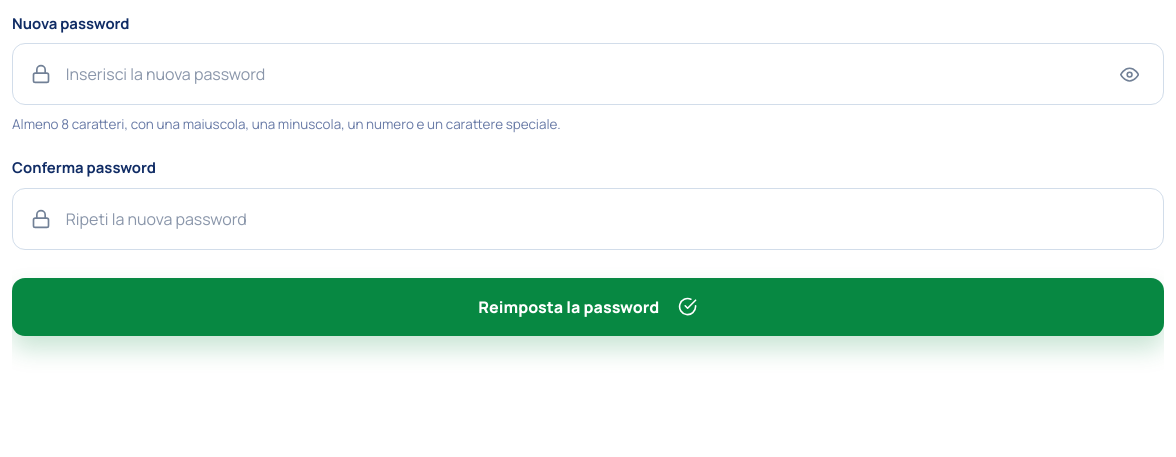
ResetPasswordForm › errori del server › tratta il 500 come guasto tecnico, non come token invalido
The width and height of the screenshot is (1176, 457).
Type "Password1!" into the password field labelled "Nuova password" at (583, 74), box [66,62,1100,86]
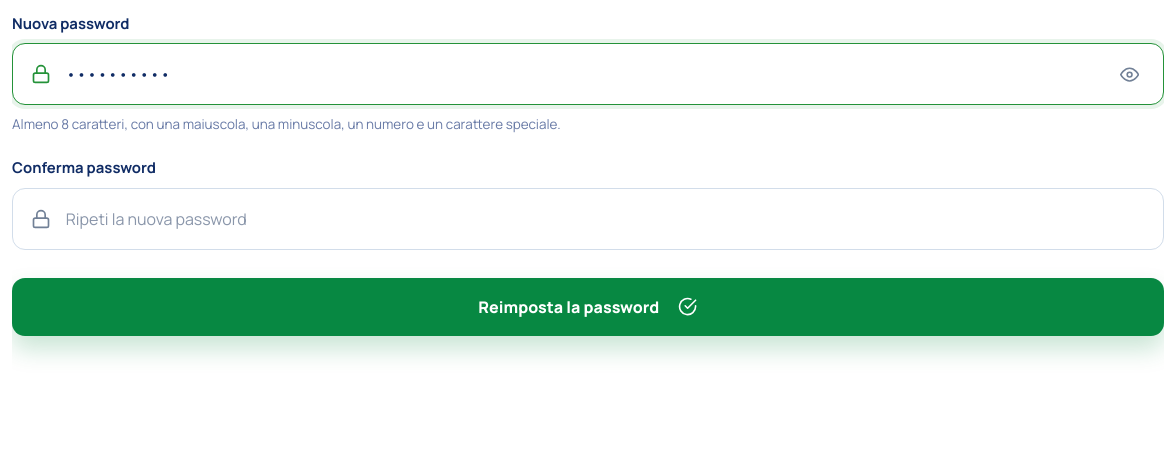
Type "Password1!" into the password field labelled "Conferma password" at (605, 219), box [66,207,1145,231]
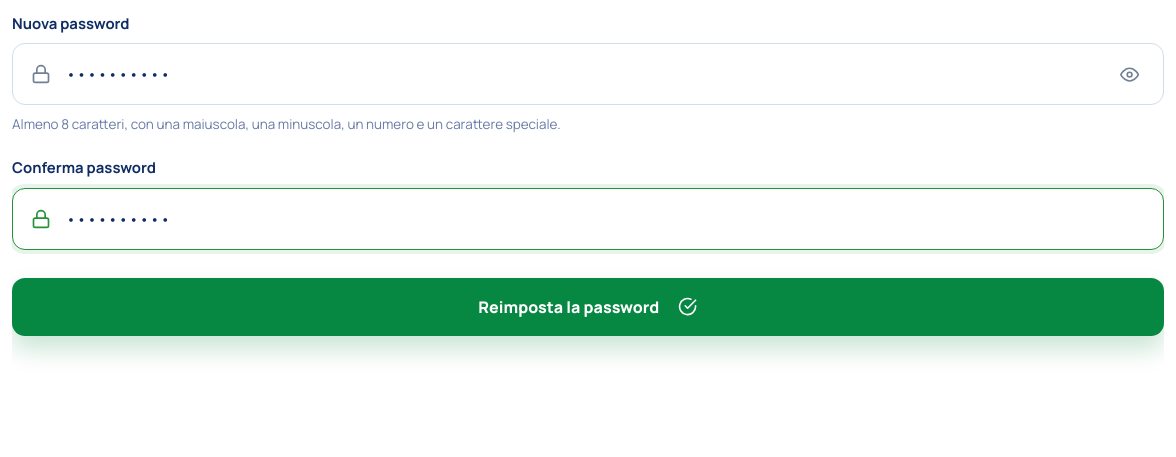
Click the button "Reimposta la password" at (588, 306), box [12,278,1164,336]
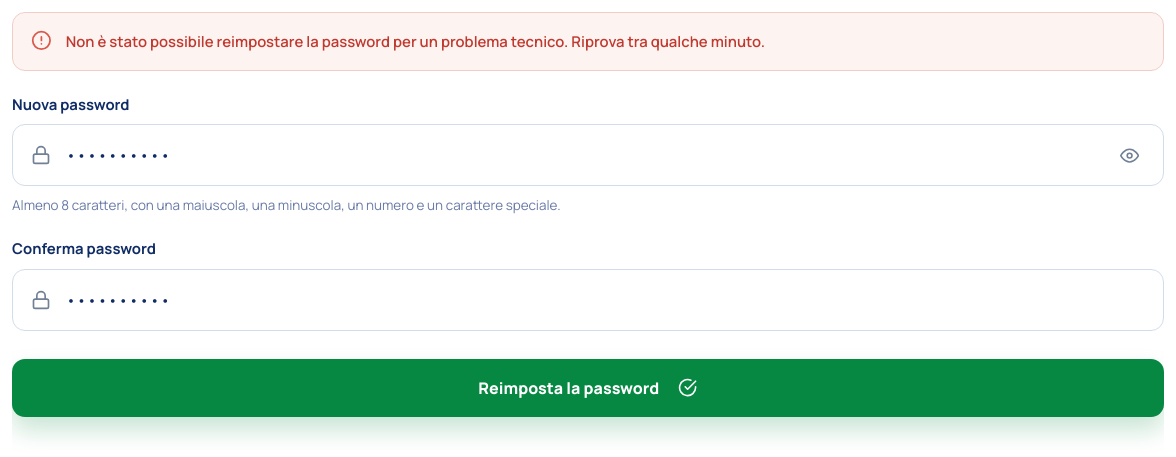
expect the message shows "problema tecnico": met, box [66,31,765,51]
